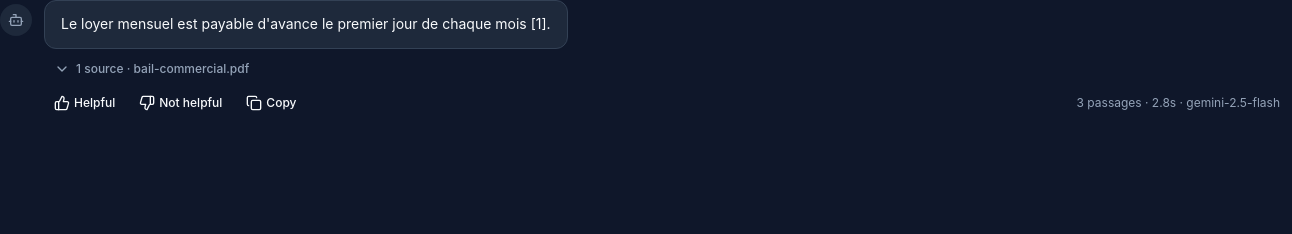
Test: ChatMessage › shows the answer, and its sources once asked for
expect the text "Le loyer mensuel est payable d'avance le premier jour" is shown: met, box x1=61 y1=15 x2=551 y2=32
Click the button with aria-label "show sources".
click(152, 69)  # box x1=44 y1=57 x2=259 y2=81
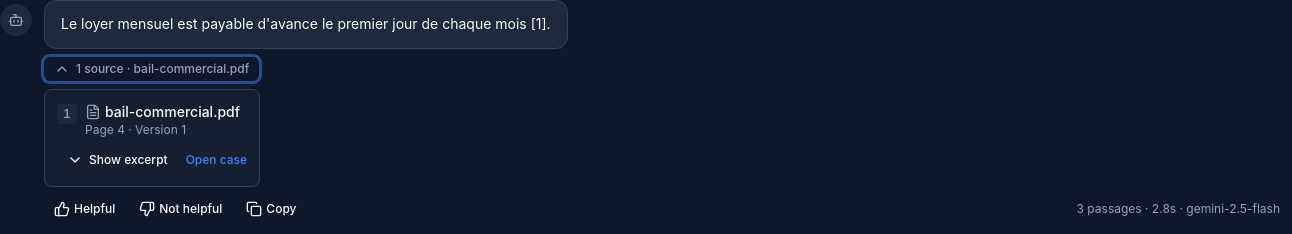
expect the text "bail-commercial.pdf" is shown: met, box x1=85 y1=102 x2=240 y2=122
